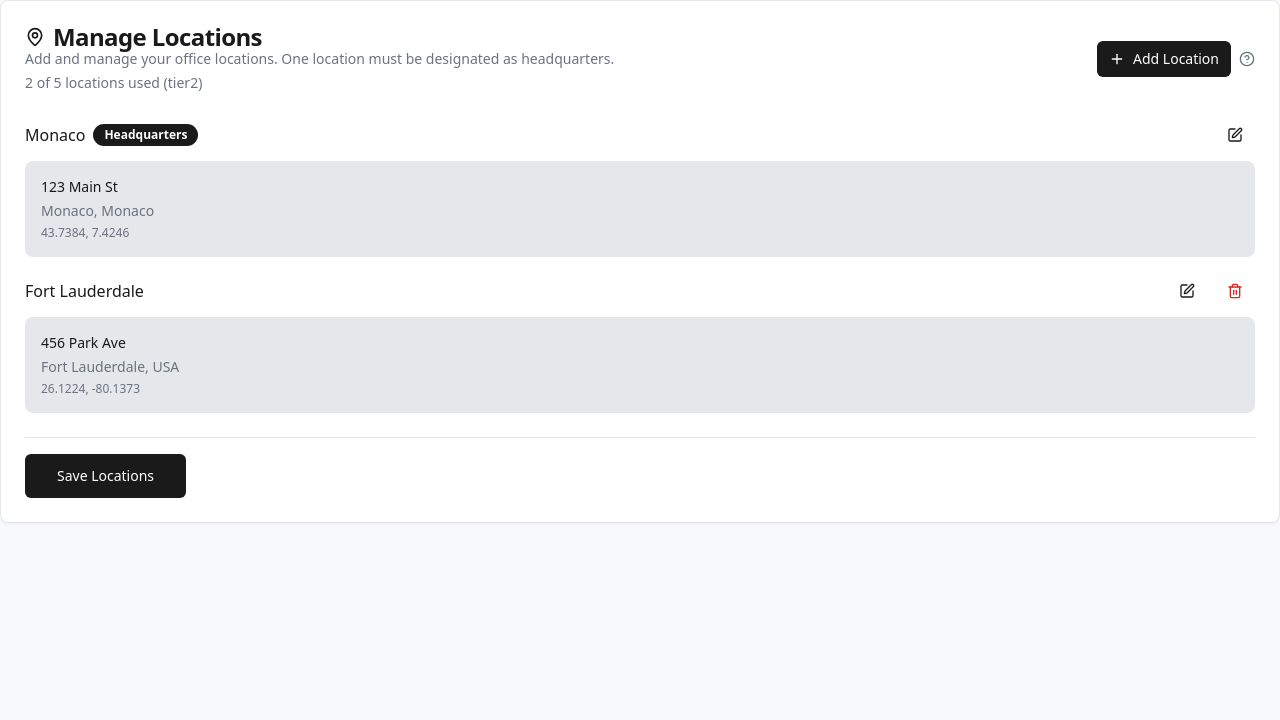
it: LocationsManagerCard › Delete Location Workflow › shows confirmation dialog when delete clicked
Click the button named "delete": (1235, 291) [1215,273,1255,309]
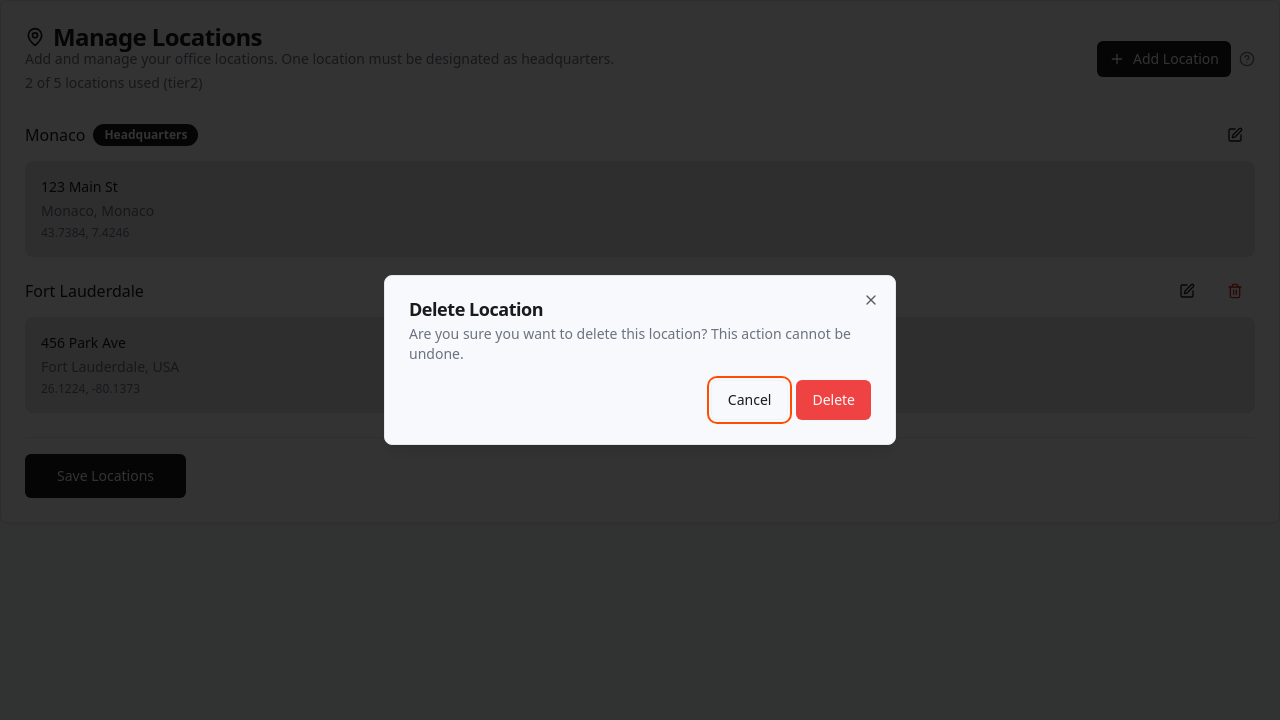
Expected: the text "Are you sure" is shown, [409,324,851,363]
